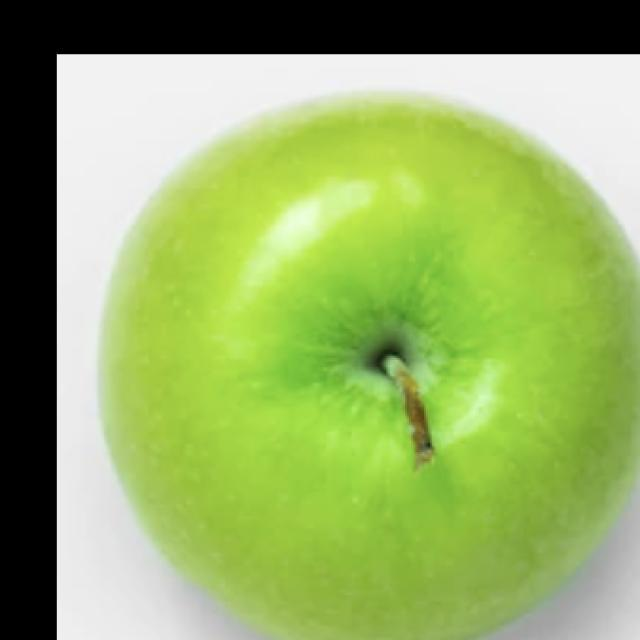Apple: (96, 88, 639, 639)
